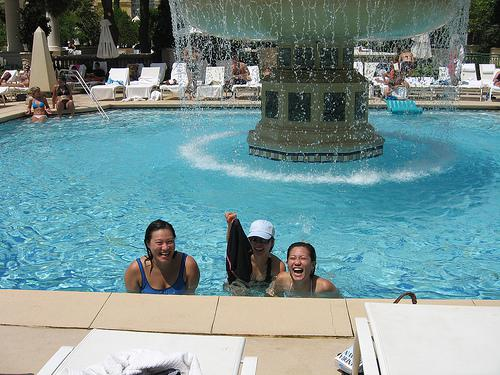human: (119, 218, 201, 296), (222, 215, 288, 290), (274, 240, 339, 298)
